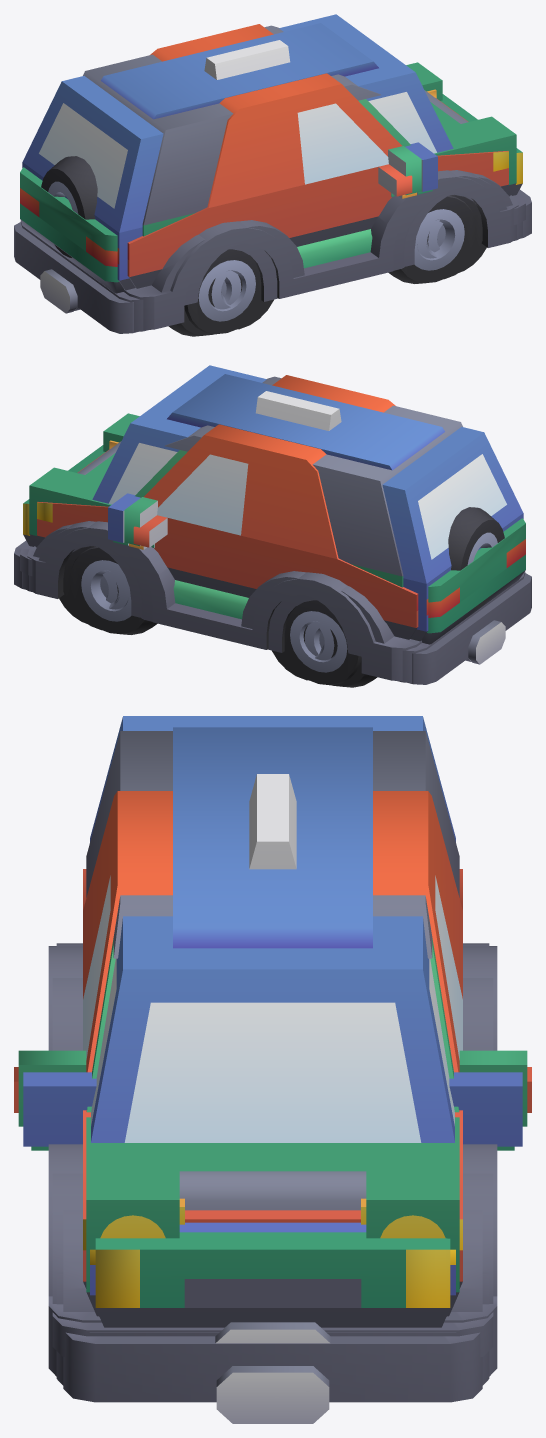
File: vehicles.glb
3 views of the same model, one above another, from view 1: azimuth 30°, elevation 25°; view 2: azimuth 150°, elevation 25°; view 3: azimuth 270°, elevation 25° (orthographic). The views are drawn at different scales.
Visible parts, largest first — view 1: sedan, van, suv, pickup, taxi, hatchback; view 2: sedan, van, suv, pickup, taxi, hatchback; view 3: van, pickup, suv, sedan, taxi.
Boxes of the visible parts, x1,y1,x2,y2 form: sedan: [123, 24, 518, 334]; van: [20, 14, 522, 336]; suv: [41, 25, 525, 329]; pickup: [14, 94, 531, 333]; taxi: [204, 40, 477, 251]; hatchback: [297, 193, 394, 268]; sedan: [27, 375, 422, 685]; van: [23, 365, 525, 687]; suv: [20, 376, 504, 680]; pickup: [14, 445, 531, 684]; taxi: [68, 391, 341, 602]; hatchback: [151, 544, 248, 619]; van: [23, 716, 522, 1385]; pickup: [31, 1146, 514, 1423]; suv: [18, 731, 527, 1357]; sedan: [14, 791, 531, 1376]; taxi: [179, 774, 366, 1224].
Size of what is drawn, in the model's own units: 0.54 by 0.2727 by 0.2941.
1 material, 1 textured.
